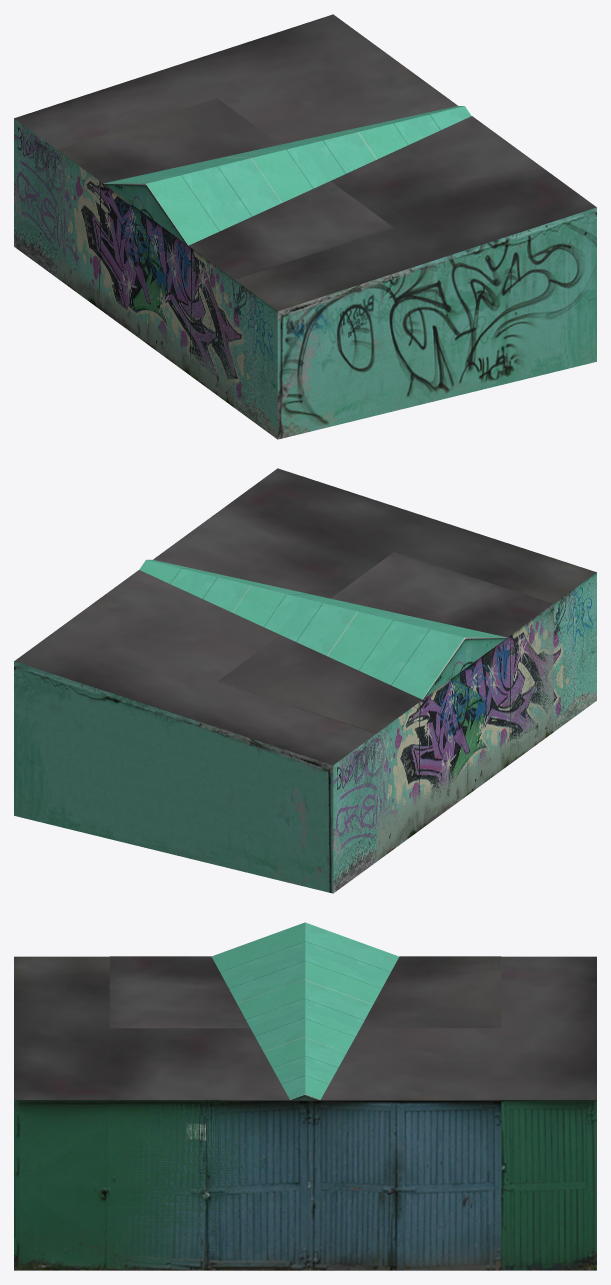
The model's file is SM_Garage_01.FBX.
3 views of the same model, one above another, from view 1: azimuth 30°, elevation 25°; view 2: azimuth 150°, elevation 25°; view 3: azimuth 270°, elevation 25° (orthographic). The views are drawn at different scales.
Visible parts, largest first — view 1: SM_Garage_v01_03_001, SM_Garage_v01_05_001, SM_Garage_v01_02_001, SM_Garage_v01_04_001; view 2: SM_Garage_v01_03_001, SM_Garage_v01_05_001, SM_Garage_v01_02_001, SM_Garage_v01_04_001; view 3: SM_Garage_v01_03_001, SM_Garage_v01_04_001, SM_Garage_v01_02_001, SM_Garage_v01_05_001.
Part boxes in pixels (box(x1,y1,x2,y2)): SM_Garage_v01_03_001: box(14, 14, 596, 439); SM_Garage_v01_05_001: box(57, 98, 393, 407); SM_Garage_v01_02_001: box(103, 106, 471, 245); SM_Garage_v01_04_001: box(61, 98, 376, 247); SM_Garage_v01_03_001: box(14, 468, 596, 893); SM_Garage_v01_05_001: box(217, 552, 553, 861); SM_Garage_v01_02_001: box(139, 559, 507, 699); SM_Garage_v01_04_001: box(217, 552, 421, 733); SM_Garage_v01_03_001: box(14, 956, 596, 1270); SM_Garage_v01_04_001: box(110, 956, 501, 1270); SM_Garage_v01_02_001: box(211, 922, 399, 1270); SM_Garage_v01_05_001: box(109, 956, 501, 1028).
Size of the model in its own units: 5.12 by 2.44 by 7.32.
